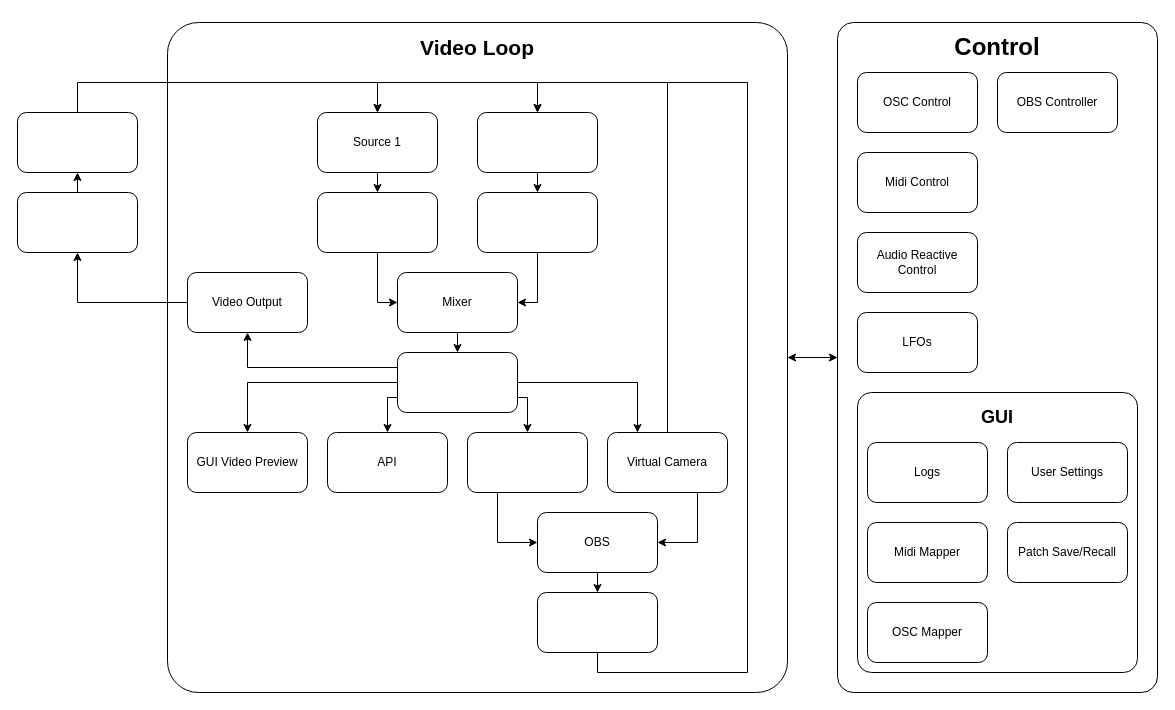
Image size: 1175x710. Some labels were removed from this diagram. The shapes that lost their labels are listed below. From the top down, each one's centre as x and y in pixels, then its label:
[77,142]: Capture Card
[537,142]: Source 2
[77,222]: Video Hardware
[377,222]: Effect Sequencer 1
[537,222]: Effect Sequencer 2
[457,382]: Effect Sequencer 3
[527,462]: FFMPEG
[597,622]: OBS filters
